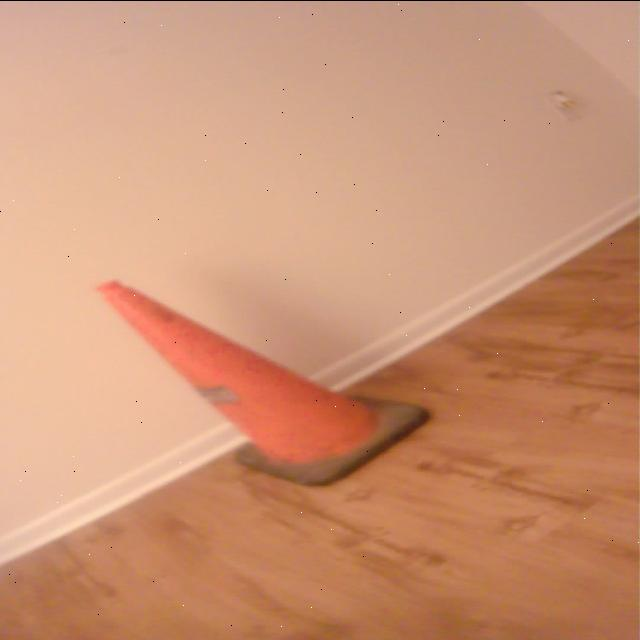traffic cone: (90, 275, 436, 490)
